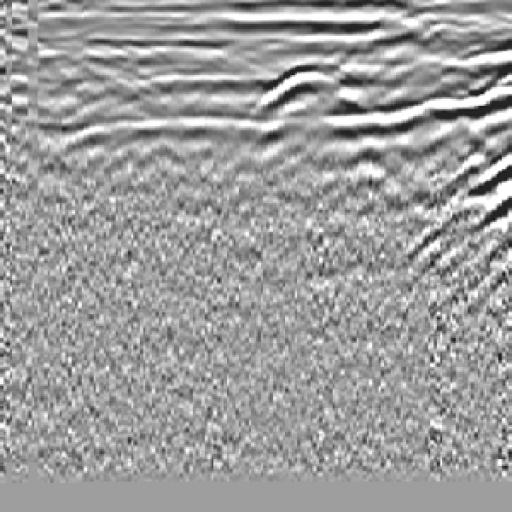metalic: (249, 58, 375, 121)
